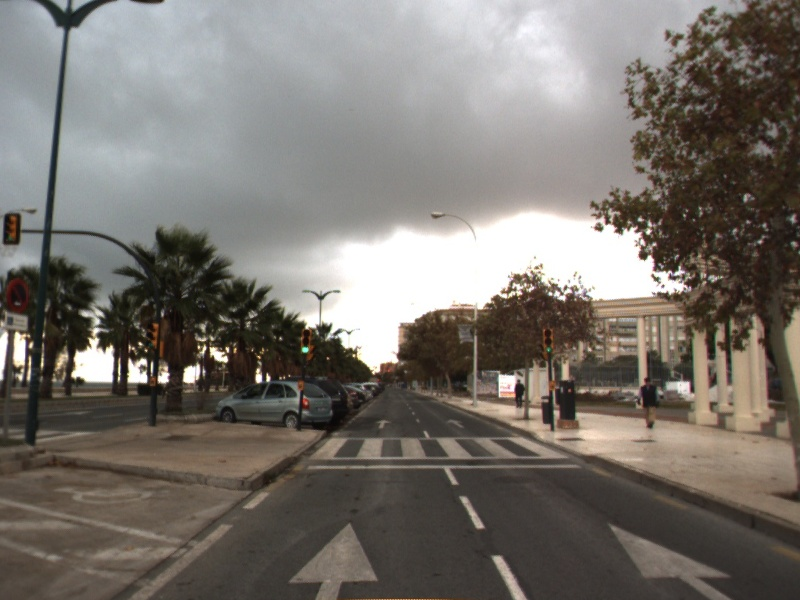STRAIGHT: (606, 521, 740, 600), (286, 521, 380, 600), (445, 417, 467, 430), (374, 418, 393, 430)
